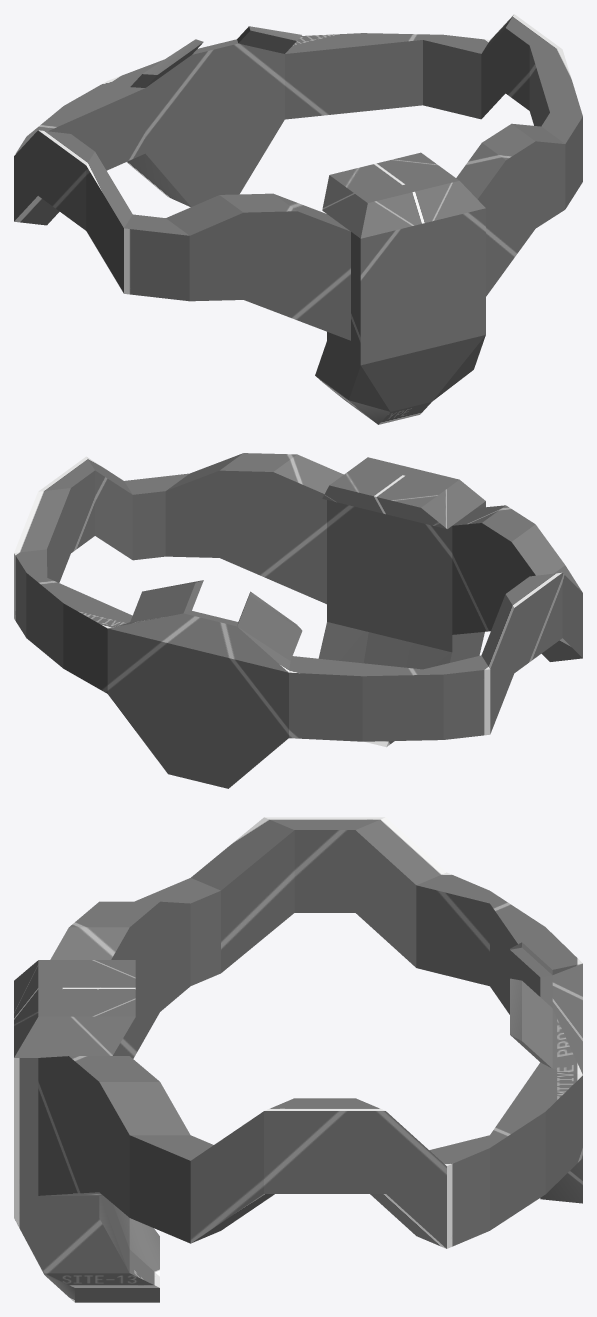
The model's file is Hip-Solider.obj.
3 views of the same model, one above another, from view 1: azimuth 30°, elevation 25°; view 2: azimuth 150°, elevation 25°; view 3: azimuth 270°, elevation 25° (orthographic). The views are drawn at different scales.
Parts seen in each view (by area): view 1: Hip-Solider; view 2: Hip-Solider; view 3: Hip-Solider.
Part boxes in pixels (left/top/right/bottom): Hip-Solider: left=14, top=14, right=582, bottom=424; Hip-Solider: left=14, top=453, right=582, bottom=788; Hip-Solider: left=14, top=817, right=582, bottom=1302.
Bounding box in the file's own units: 2.85 × 1.48 × 2.34.
